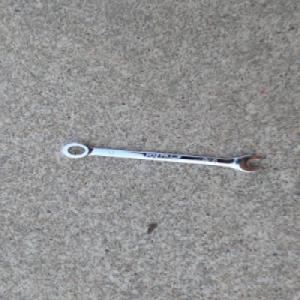Wrench: (59, 141, 263, 173)
